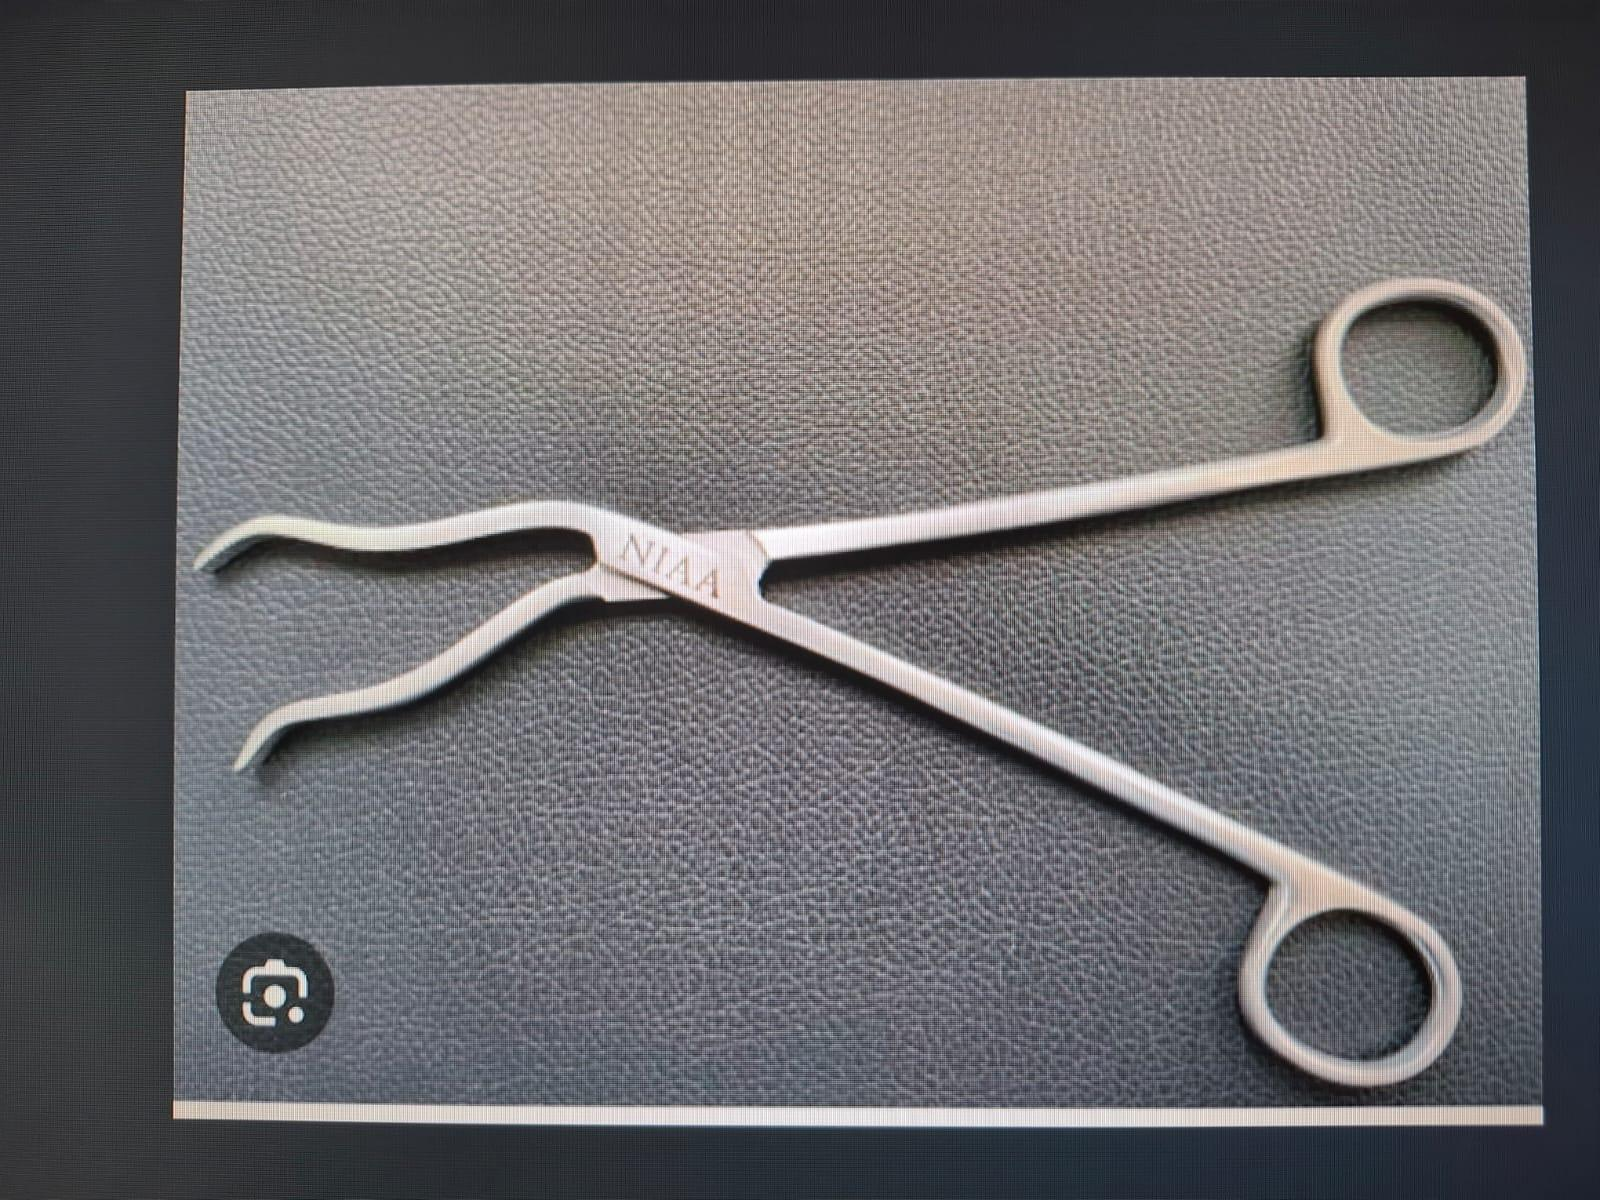Cheatle Forceps: (186, 270, 1529, 1092)
